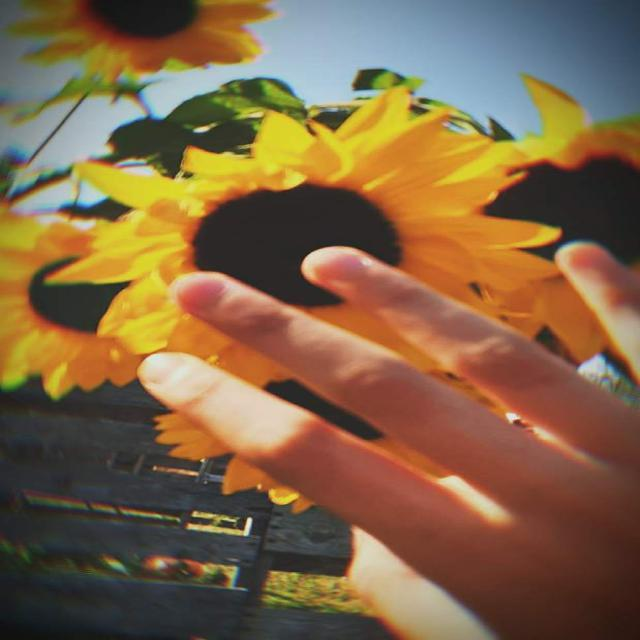sunflower: (49, 85, 598, 362), (151, 311, 505, 512), (471, 71, 638, 368), (0, 201, 162, 400), (5, 0, 276, 86)
